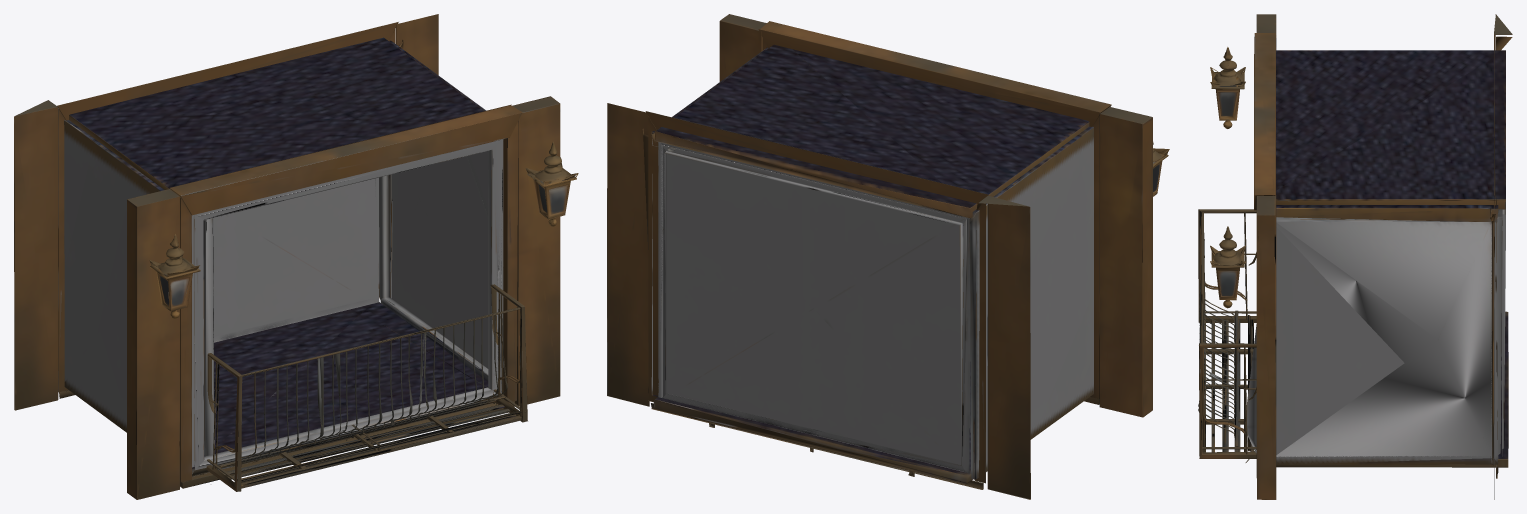
File: balcony-2-opened-room-updated.glb
3 renders of one model, left to right at view 1: azimuth 30°, elevation 25°; view 2: azimuth 150°, elevation 25°; view 3: azimuth 270°, elevation 25°, orthographic. The views are drawn at different scales.
Visible parts, largest first — view 1: geometry_0; view 2: geometry_0; view 3: geometry_0.
Part boxes in pixels (box(x1,y1,x2,y2)): geometry_0: box(14, 14, 578, 499); geometry_0: box(607, 14, 1169, 499); geometry_0: box(1198, 14, 1512, 499).
Size of the model in its own units: 1.22 by 0.8141 by 0.8087.
Materials: 1 (1 with a texture image).
